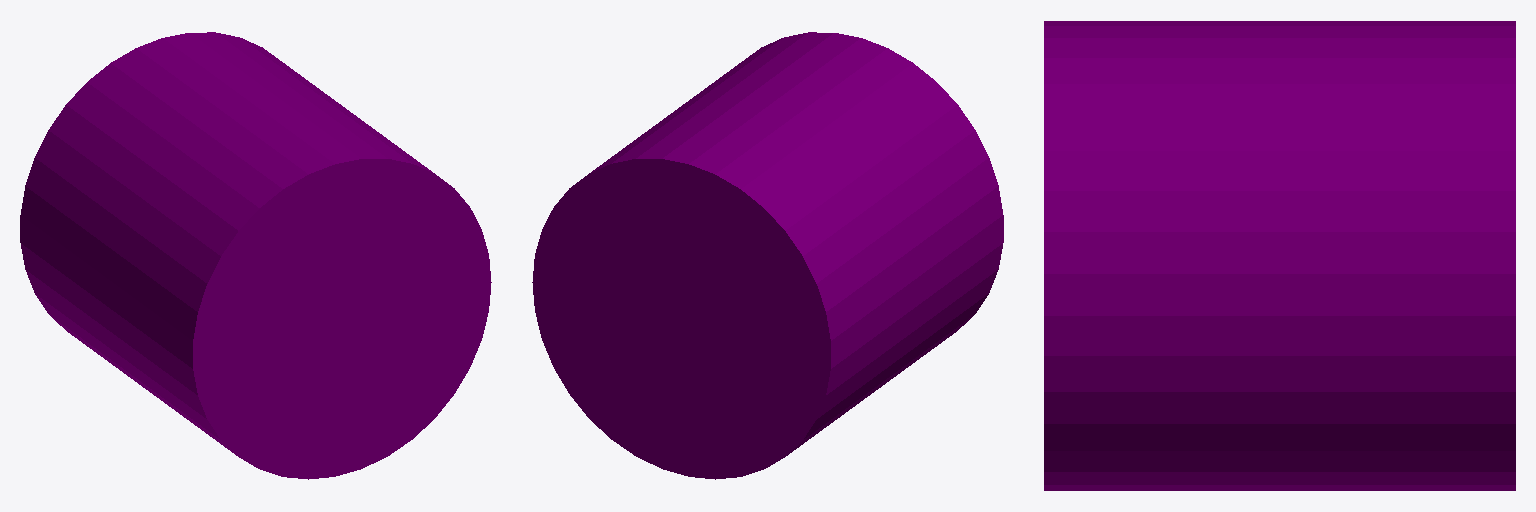
robot.urdf — ma:
<?xml version="1.0" encoding="utf-8"?>
<!-- This URDF was automatically created by SolidWorks to URDF Exporter! Originally created by [author] ([email redacted]) 
     Commit Version: 1.5.1-0-g916b5db  Build Version: 1.5.7152.31018
     For more information, please see http://wiki.ros.org/sw_urdf_exporter -->
<robot
  name="ma">
  <link
    name="ma">
    <inertial>
      <origin
        xyz="0 0 0"
        rpy="0 0 0" />
      <mass
        value="5E-05" />
      <inertia
        ixx="2.0754E-07"
        ixy="0"
        ixz="0"
        iyy="4.1508E-07"
        iyz="-1.27077401336148E-23"
        izz="2.0754E-07" />
    </inertial>
    <visual>
      <origin
        xyz="0 0 0"
        rpy="1.5707963267949 0 0" />
      <geometry>
        <mesh
          filename="package://ma/meshes/ma.STL" />
      </geometry>
      <material
        name="">
        <color
          rgba="0.5 0 0.5 1" />
        <texture
          filename="package://ma/textures/" />
      </material>
    </visual>
    <collision>
      <origin
        xyz="0 0 0"
        rpy="1.5707963267949 0 0" />
      <geometry>
        <mesh
          filename="package://ma/meshes/ma.STL" />
      </geometry>
    </collision>
  </link>
</robot>

--- What the picture shows (computed from the rendered views, not written in the file) ---
Views: 3 orthographic renders of the robot side by side, from view 1: azimuth 30°, elevation 25°; view 2: azimuth 150°, elevation 25°; view 3: azimuth 270°, elevation 25°.
Robot: ma — 1 links, 0 joints (none); root link ma; default pose: every joint at zero.
Visible links, largest first — view 1: ma; view 2: ma; view 3: ma.
Boxes of the visible links, box(x1,y1,x2,y2) form: ma: box(20, 32, 491, 479); ma: box(532, 32, 1003, 479); ma: box(1044, 21, 1515, 490).
Bounding box of the posed robot: 0.0317 × 0.0318 × 0.0317 m (x, y, z).
1 mesh visuals loaded from 1 distinct referenced files (1 binary STL).
